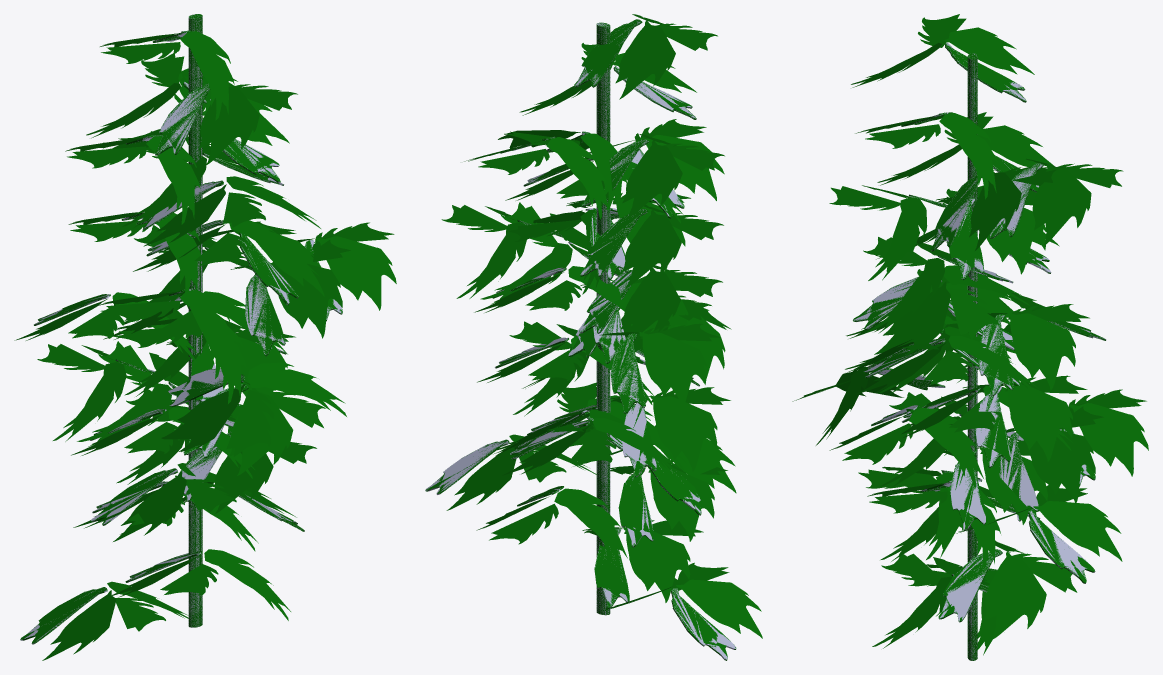
The model's file is rosii_mici.fbx.
The picture shows the model from 3 angles, left to right: view 1: azimuth 30°, elevation 25°; view 2: azimuth 150°, elevation 25°; view 3: azimuth 270°, elevation 25°; orthographic projection. The views are drawn at different scales.
Visible parts, largest first — view 1: Group2, Group30, Group14, Group18, Group5, Group33, Group10, Group4, Group20, Group34, Group31, Group35 (+20 smaller); view 2: Group29, Group34, Group37, Group24, Group18, Group20, Group31, Group35, Group26, Group7, Group27, Group21 (+20 smaller); view 3: Group27, Group38, Group15, Group13, Group7, Group32, Group25, Group34, Group36, Group10, Group21, Group16 (+20 smaller).
Part boxes in pixels (x1,y1,x2,y2): Group2: [161, 362, 346, 456]; Group30: [154, 83, 297, 165]; Group14: [230, 236, 350, 356]; Group18: [20, 581, 188, 660]; Group5: [91, 463, 269, 541]; Group33: [136, 176, 320, 246]; Group10: [296, 222, 396, 321]; Group4: [188, 14, 202, 627]; Group20: [111, 549, 290, 620]; Group34: [100, 30, 234, 120]; Group31: [99, 289, 233, 378]; Group35: [65, 135, 200, 224]; Group29: [599, 323, 720, 413]; Group34: [574, 14, 717, 99]; Group37: [580, 205, 723, 288]; Group24: [610, 387, 730, 477]; Group18: [599, 562, 762, 660]; Group20: [582, 520, 703, 608]; Group31: [579, 265, 722, 336]; Group35: [581, 134, 724, 219]; Group26: [610, 460, 727, 547]; Group7: [425, 434, 596, 510]; Group27: [476, 486, 627, 567]; Group21: [502, 418, 681, 477]; Group27: [938, 541, 1077, 639]; Group38: [853, 265, 1029, 355]; Group15: [963, 375, 1087, 467]; Group13: [978, 304, 1089, 396]; Group7: [956, 485, 1122, 583]; Group32: [989, 158, 1123, 245]; Group25: [999, 403, 1103, 521]; Group34: [851, 14, 1034, 102]; Group36: [931, 166, 1063, 251]; Group10: [856, 336, 1039, 397]; Group21: [1060, 389, 1148, 486]; Group16: [829, 405, 983, 488].
Bounding box in the file's own units: 29.32 × 50.63 × 27.24.
